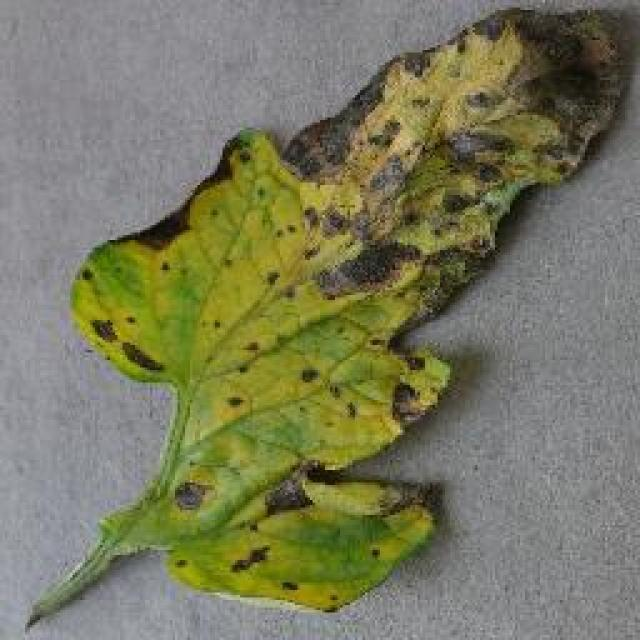Tomato_Early_Blight: (92, 2, 619, 560)
